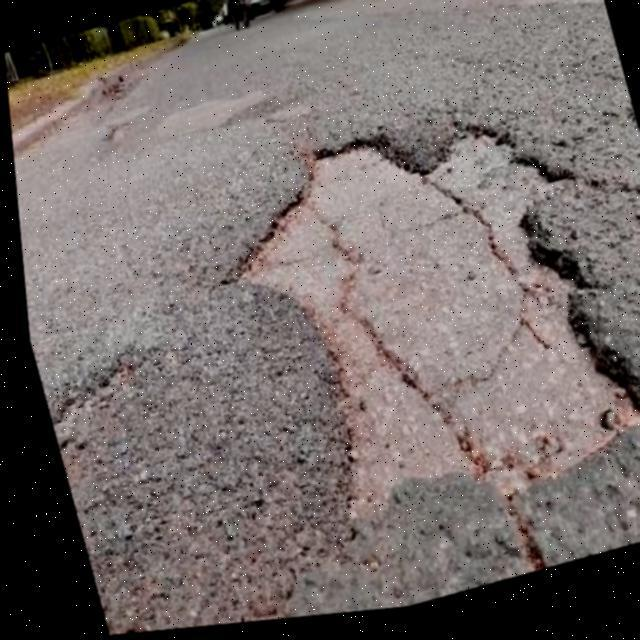pothole: (186, 81, 640, 569)
